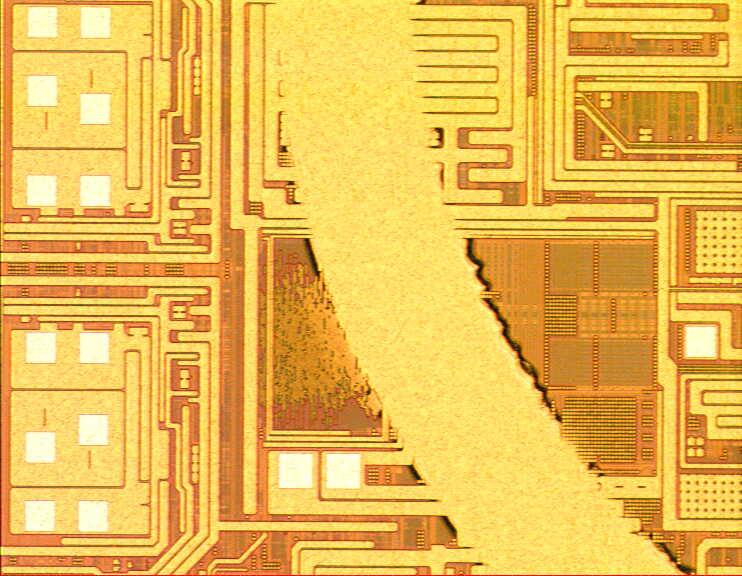COATING BAD: (264, 1, 705, 576)
